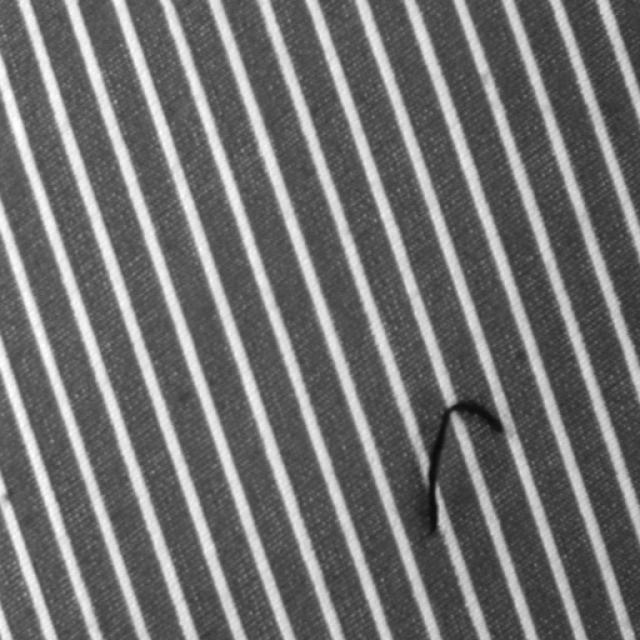Foreign-Body-Defect: (416, 399, 504, 535)
